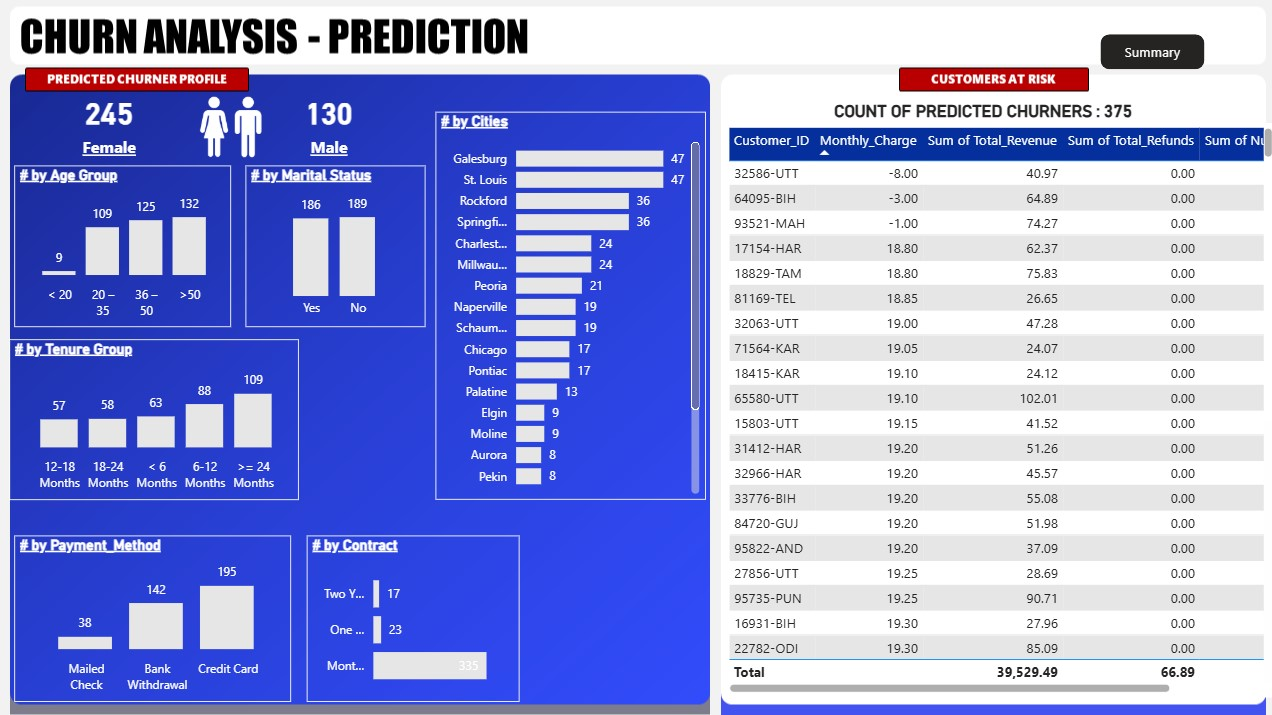

This screenshot's page, from the dashboard's own definition file:
{"tool":"powerbi","page":{"name":"Churn Prediction","canvas":[1280,720],"ordinal":2},"visuals":[{"type":"tableEx","fields":{"Values":["Predictions.Customer_ID","Predictions.Monthly_Charge","Sum(Predictions.Total_Revenue)","Sum(Predictions.Total_Refunds)","Sum(Predictions.Number_of_Referrals)"]},"box":[725.3,125.3,554.7,574.7],"z":0},{"type":"card","fields":{"Values":["tbl_Measures.Title Predicted Churners"]},"box":[789.3,90.7,393.3,45.3],"z":1000},{"type":"card","fields":{"Values":["tbl_Measures.Count Predicted Churner"]},"box":[11,71.4,200.3,107],"z":2000},{"type":"card","fields":{"Values":["tbl_Measures.Count Predicted Churner"]},"box":[247,71.4,167.4,107],"z":3000},{"type":"clusteredColumnChart","fields":{"Category":["mapping_AgeGrp.Age Group"],"Y":["CountNonNull(Predictions.Customer_ID)"]},"box":[16.5,167.4,216.8,161.9],"z":4000},{"type":"clusteredColumnChart","fields":{"Category":["Predictions.Married"],"Y":["CountNonNull(Predictions.Customer_ID)"]},"box":[247,167.4,179.8,161.9],"z":5000},{"type":"clusteredColumnChart","fields":{"Y":["CountNonNull(Predictions.Customer_ID)"],"Category":["mapping_TenureGrp.Tenure Group"]},"box":[11,341.7,289.5,160.5],"z":6000},{"type":"clusteredColumnChart","fields":{"Y":["CountNonNull(Predictions.Customer_ID)"],"Category":["Predictions.Payment_Method"]},"box":[16.5,537.9,277.2,166],"z":7000},{"type":"clusteredBarChart","fields":{"Category":["Predictions.Contract"],"Y":["CountNonNull(Predictions.Customer_ID)"]},"box":[308.7,537.9,212.7,166],"z":8000},{"type":"clusteredBarChart","fields":{"Category":["Predictions.Cities"],"Y":["CountNonNull(Predictions.Customer_ID)"]},"box":[437.7,113.9,270.3,388.3],"z":9000},{"type":"image","box":[189.4,90.6,87.8,76.8],"z":10000},{"type":"shape","box":[1155,26.2,103.8,35],"z":11000}]}

Visuals, with their boxes in screenshot pixels (x1, y1, x2, y2), scaled from the page's 1280x720 canvas onto the 1272x715 screenshot:
tableEx - Predictions.Customer_ID x Predictions.Monthly_Charge: Rect(721, 124, 1271, 695)
card - tbl_Measures.Title Predicted Churners: Rect(784, 90, 1175, 135)
card - tbl_Measures.Count Predicted Churner: Rect(11, 71, 210, 177)
card - tbl_Measures.Count Predicted Churner: Rect(245, 71, 412, 177)
clusteredColumnChart - mapping_AgeGrp.Age Group x CountNonNull(Predictions.Customer_ID): Rect(16, 166, 232, 327)
clusteredColumnChart - Predictions.Married x CountNonNull(Predictions.Customer_ID): Rect(245, 166, 424, 327)
clusteredColumnChart - CountNonNull(Predictions.Customer_ID) x mapping_TenureGrp.Tenure Group: Rect(11, 339, 299, 499)
clusteredColumnChart - CountNonNull(Predictions.Customer_ID) x Predictions.Payment_Method: Rect(16, 534, 292, 699)
clusteredBarChart - Predictions.Contract x CountNonNull(Predictions.Customer_ID): Rect(307, 534, 518, 699)
clusteredBarChart - Predictions.Cities x CountNonNull(Predictions.Customer_ID): Rect(435, 113, 704, 499)
image: Rect(188, 90, 275, 166)
shape: Rect(1148, 26, 1251, 61)
